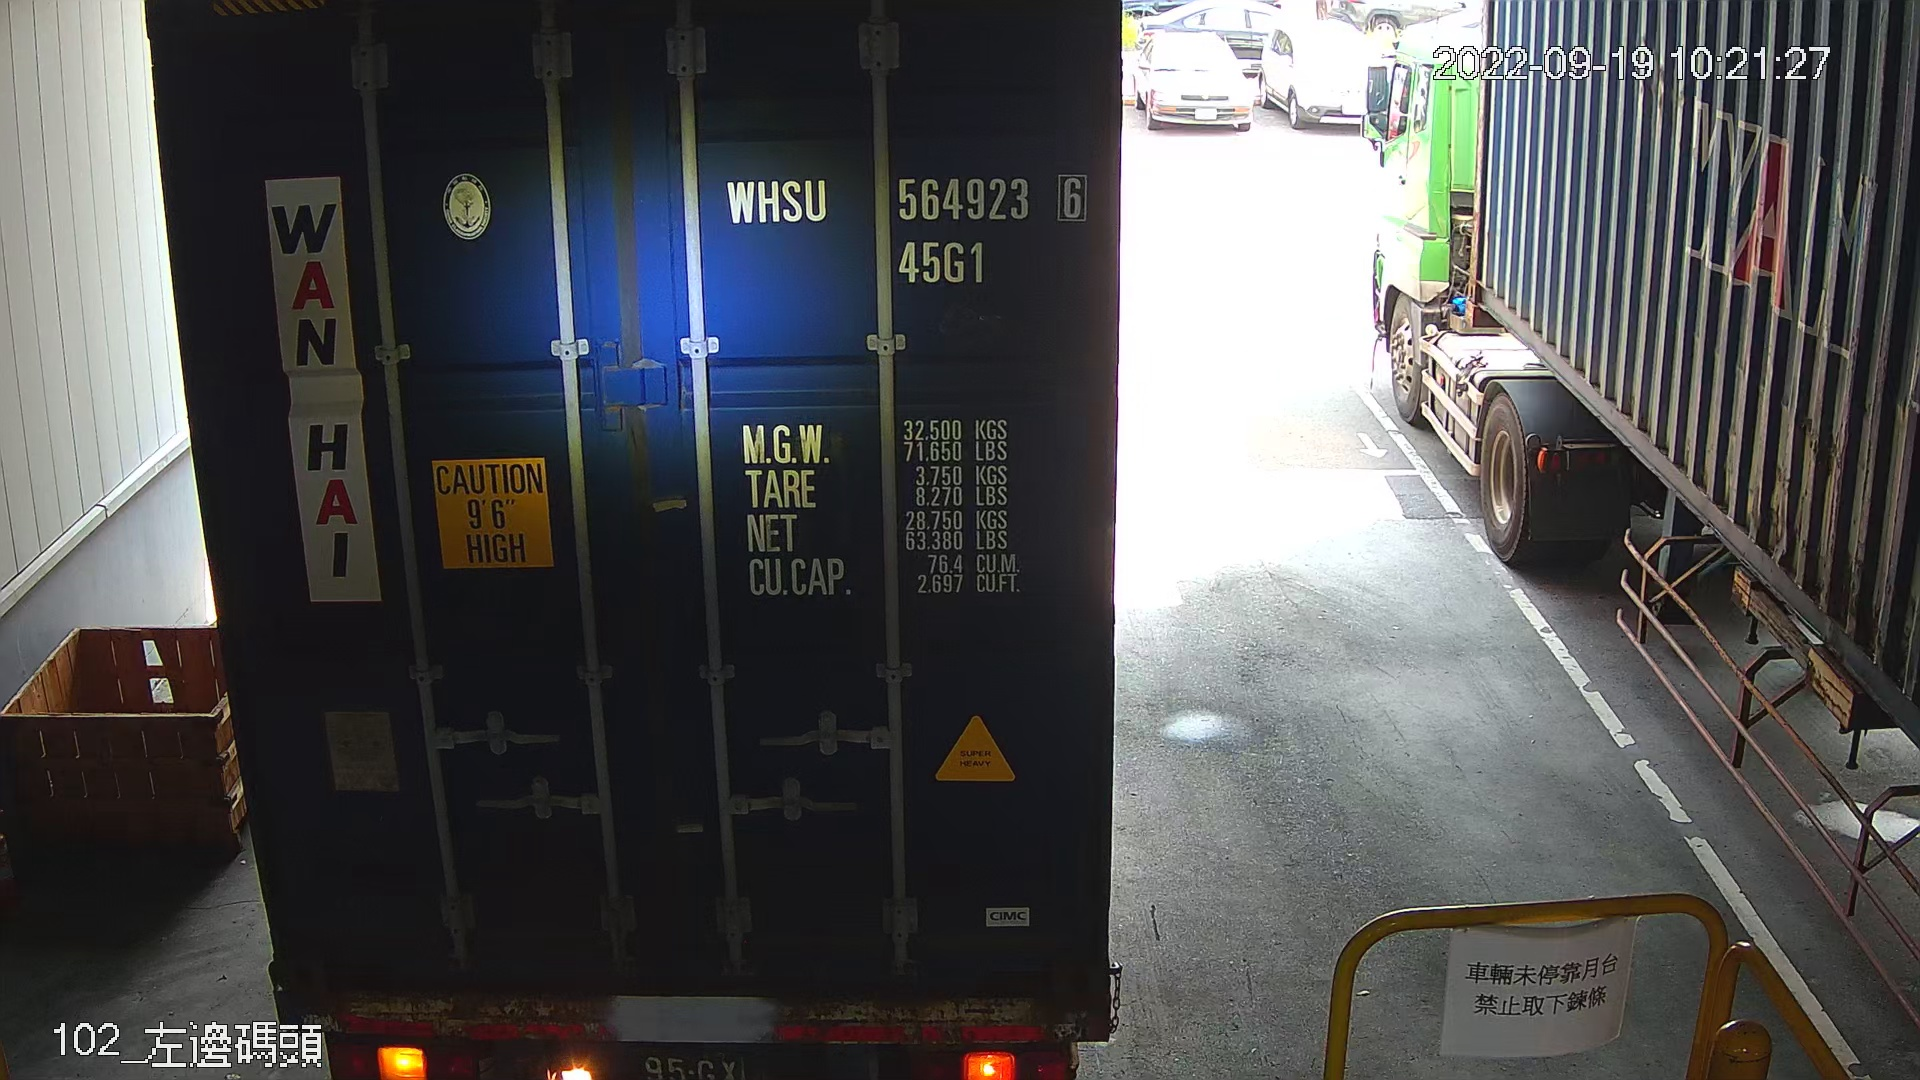container: (713, 167, 1098, 294)
